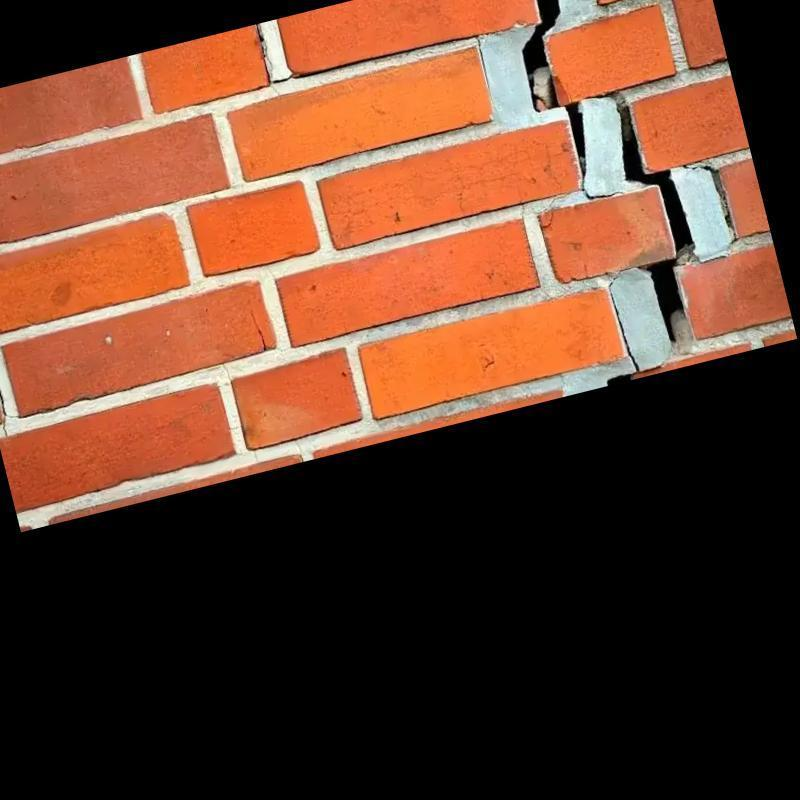pothole: (616, 105, 694, 251), (606, 275, 662, 386), (522, 0, 559, 114), (645, 258, 684, 343), (547, 75, 585, 158), (269, 73, 295, 85)
